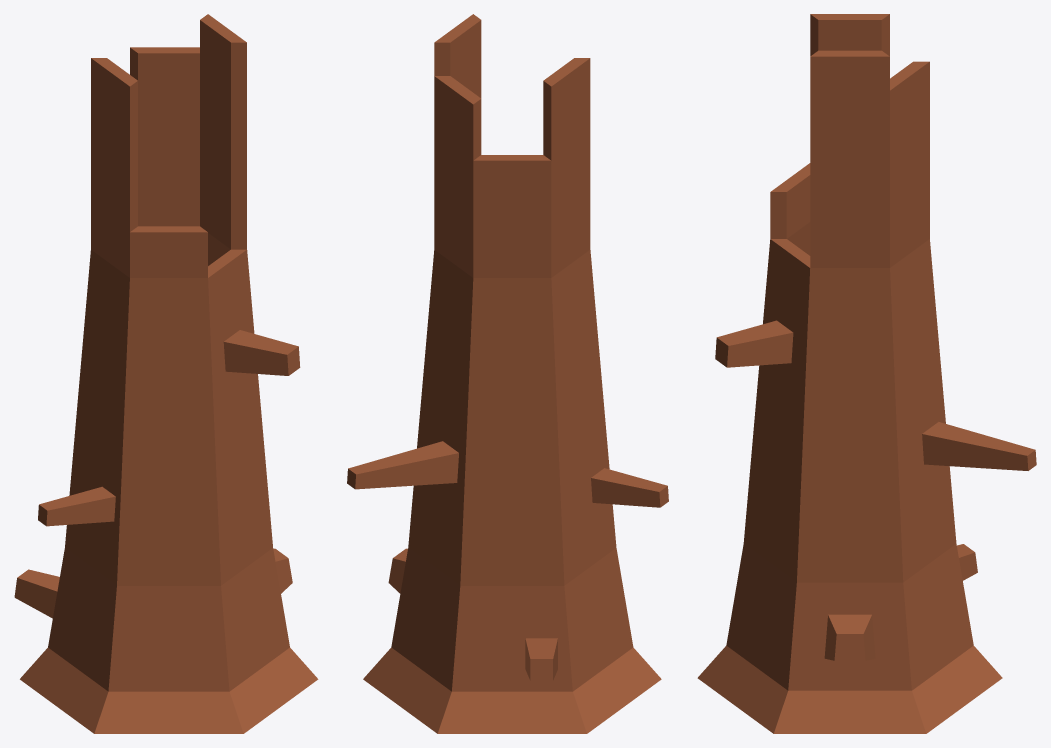
File: trunkLong.fbx
The picture shows the model from 3 angles, left to right: view 1: azimuth 30°, elevation 25°; view 2: azimuth 150°, elevation 25°; view 3: azimuth 270°, elevation 25°; orthographic projection. The views are drawn at different scales.
Visible parts, largest first — view 1: trunkLong; view 2: trunkLong; view 3: trunkLong.
Part boxes in pixels (box(x1,y1,x2,y2)): trunkLong: box(14, 14, 318, 733); trunkLong: box(347, 14, 668, 733); trunkLong: box(697, 14, 1036, 733).
Bounding box in the file's own units: 5.44 × 12.94 × 6.12.
